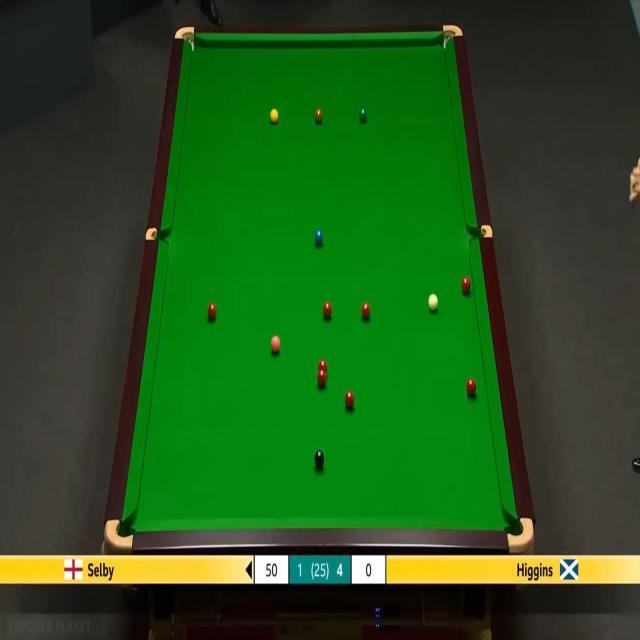Ball: (426, 293, 439, 312), (465, 378, 477, 398), (314, 450, 326, 470), (316, 358, 328, 377), (207, 303, 218, 322), (360, 302, 370, 322), (344, 390, 354, 410), (460, 276, 470, 296), (270, 337, 280, 355), (317, 368, 327, 386), (322, 302, 332, 320), (314, 230, 324, 247), (358, 109, 368, 122), (270, 109, 279, 123), (316, 109, 324, 122)
